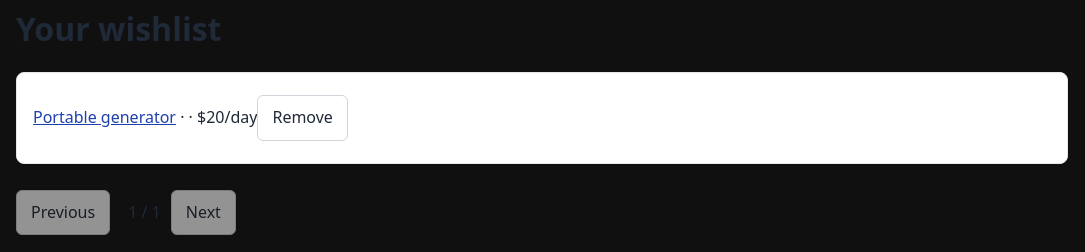
Test: removes an item from the persisted wishlist
This screenshot has width=1085, height=252.
Click the button "Remove" at (303, 118), box 257,95 -> 348,141
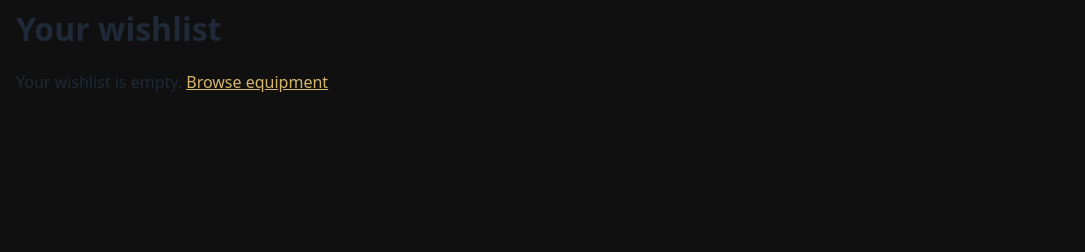
Expected: the text "Your wishlist is empty." is shown, 16,71 -> 182,93
